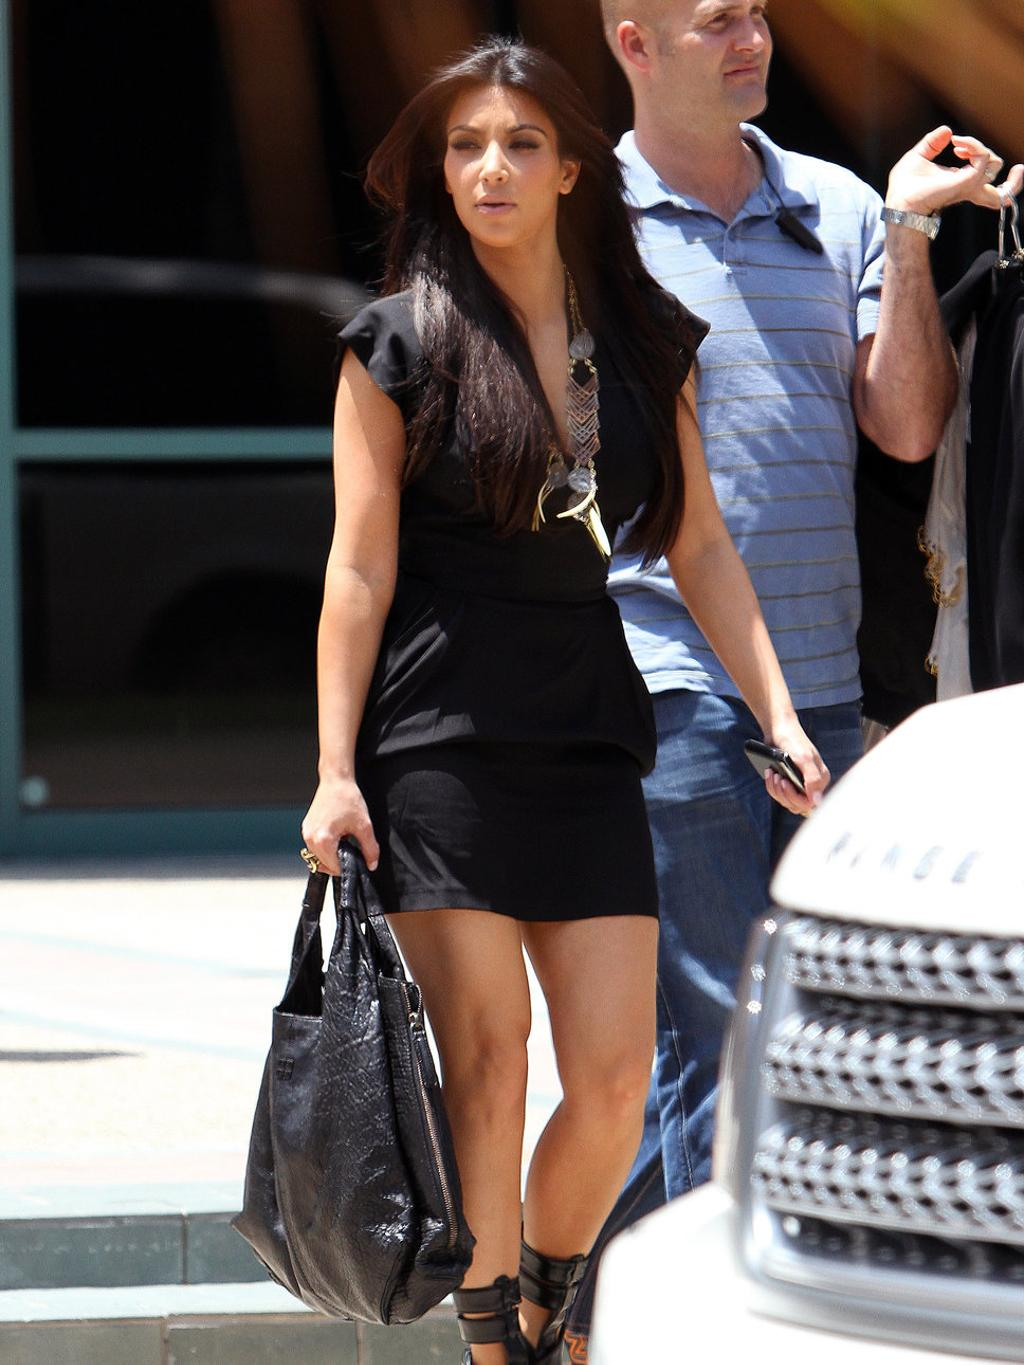face: (443, 80, 563, 243), (659, 8, 774, 123)
